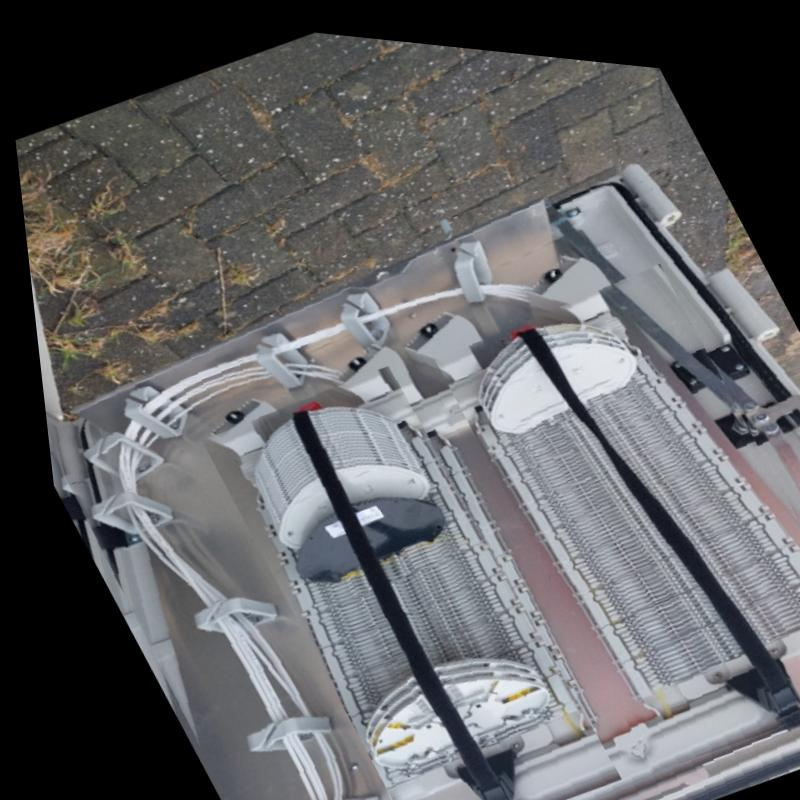NT-Gehause: (29, 147, 800, 800)
Spleiskassetten: (218, 388, 604, 800), (448, 303, 800, 751)
